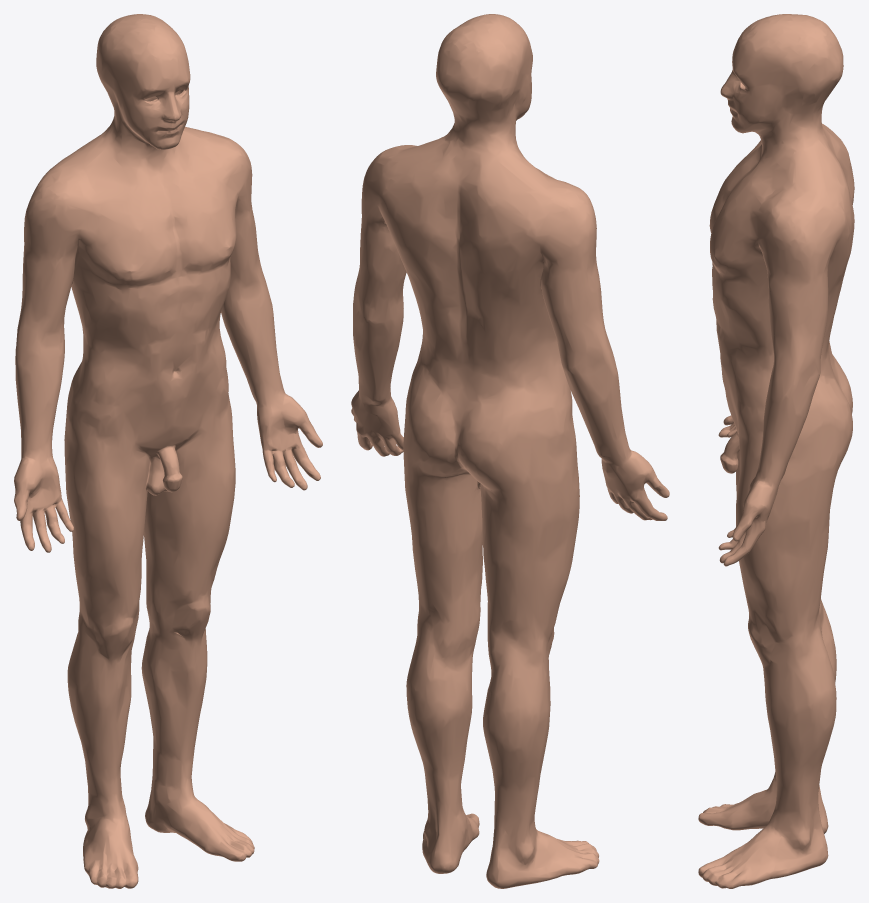
The model's file is skin.glb.
3 renders of one model, left to right at view 1: azimuth 30°, elevation 25°; view 2: azimuth 150°, elevation 25°; view 3: azimuth 270°, elevation 25°, orthographic. The views are drawn at different scales.
Visible parts, largest first — view 1: skin; view 2: skin; view 3: skin.
Boxes of the visible parts, x1,y1,x2,y2 form: skin: [14, 14, 322, 888]; skin: [351, 14, 669, 888]; skin: [698, 14, 854, 888].
Size of the model in its own units: 0.6667 by 1.72 by 0.292.
